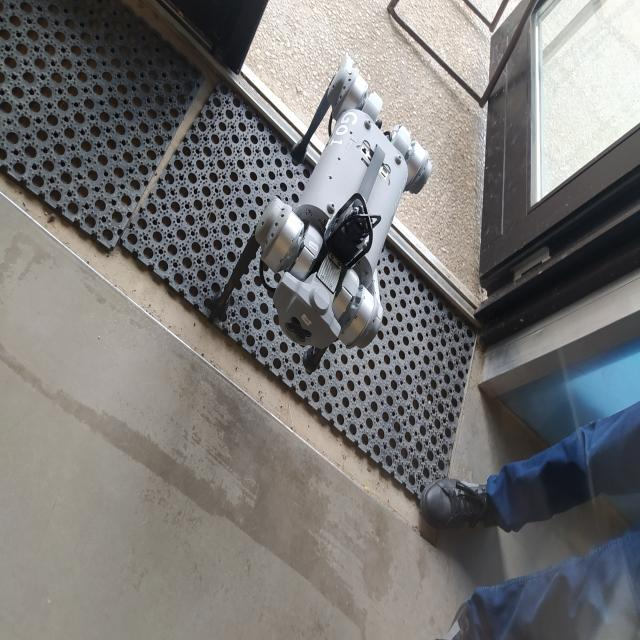unitree-go1-robot: (203, 49, 438, 384)
